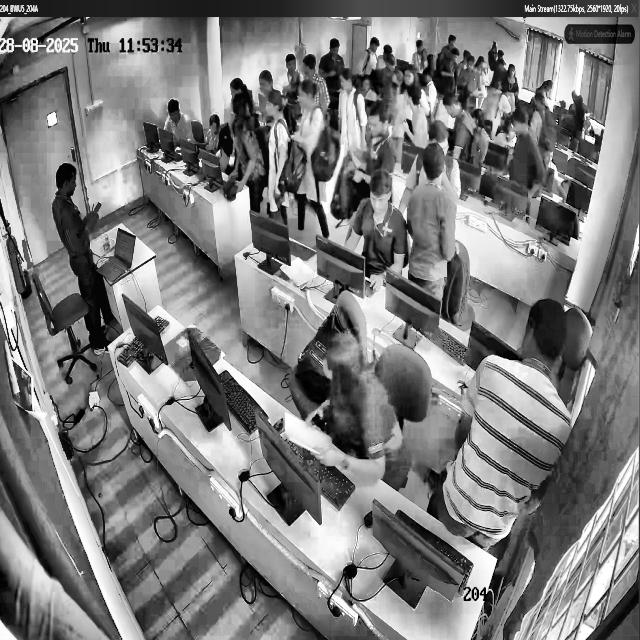Focus: (318, 336, 369, 418), (360, 102, 392, 166), (369, 173, 397, 233), (163, 93, 187, 135), (232, 92, 254, 137), (204, 111, 221, 153), (226, 74, 244, 100)
Not Focus: (514, 286, 580, 420), (40, 156, 100, 221), (296, 76, 326, 135), (262, 89, 293, 139), (421, 144, 452, 188), (423, 115, 454, 158), (504, 106, 533, 151), (334, 64, 358, 109), (282, 43, 300, 84), (304, 53, 322, 76), (329, 34, 345, 56)
